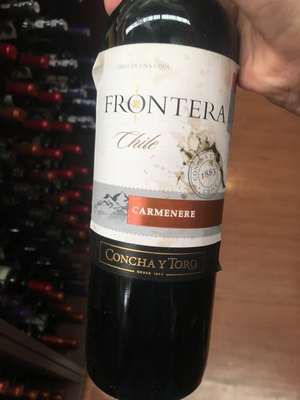frontera carmenere: (81, 13, 253, 377)
